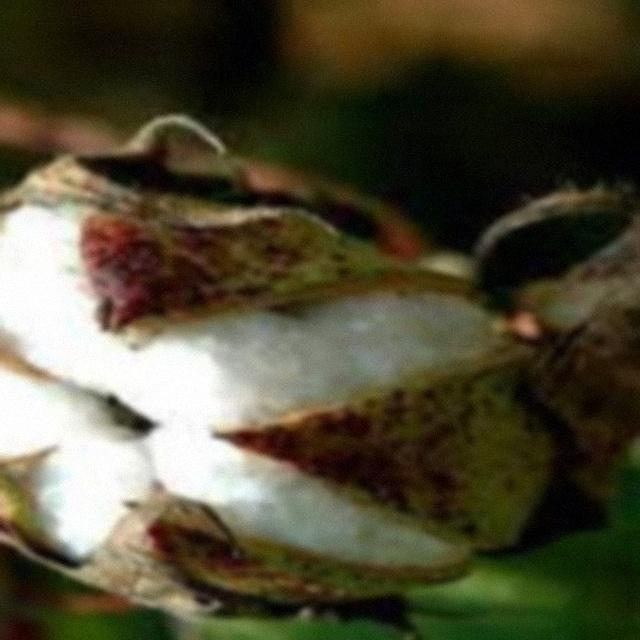Split Cotton Boll: (2, 150, 520, 617)
